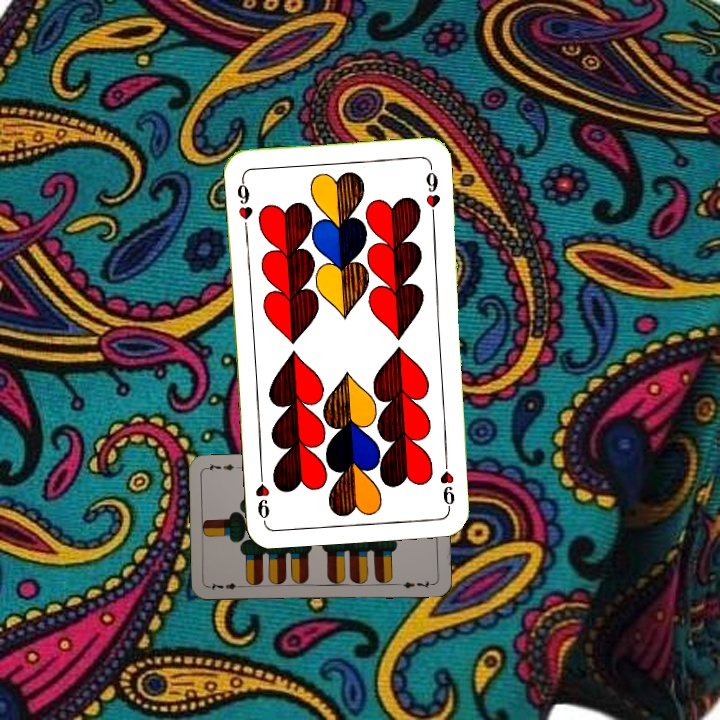E7: (206, 579, 247, 592)
H9: (233, 174, 255, 233), (436, 451, 457, 511)
